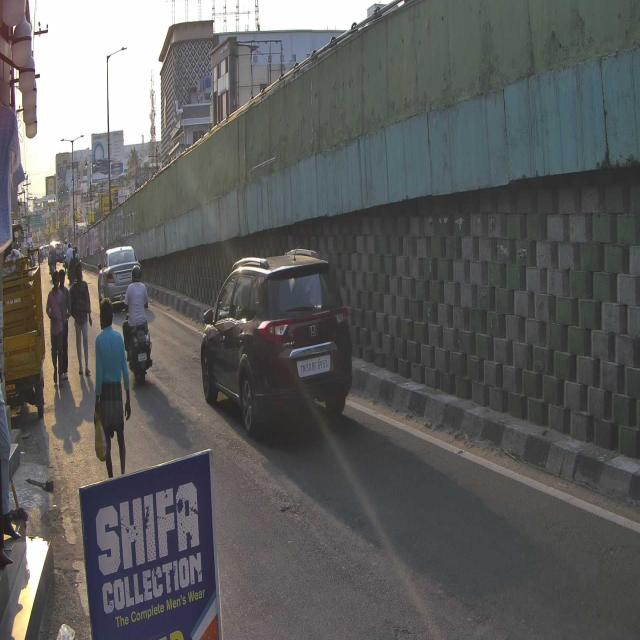single_rider: (120, 263, 154, 385)
